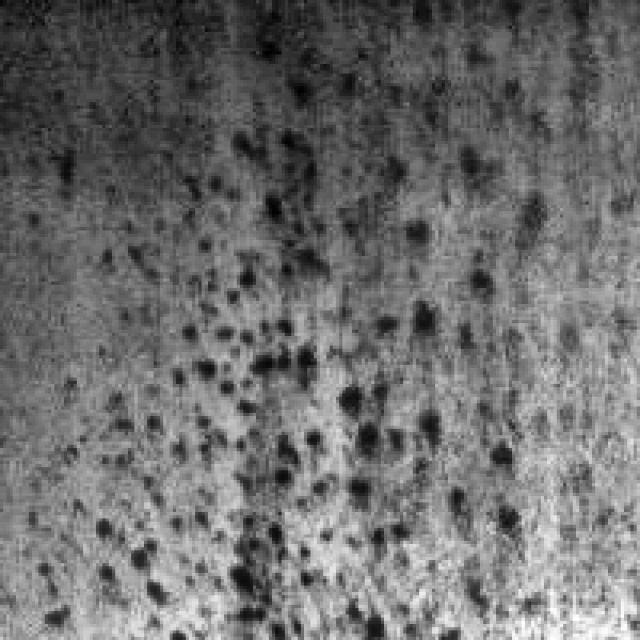Rolled_in_Scale: (42, 16, 534, 634)
